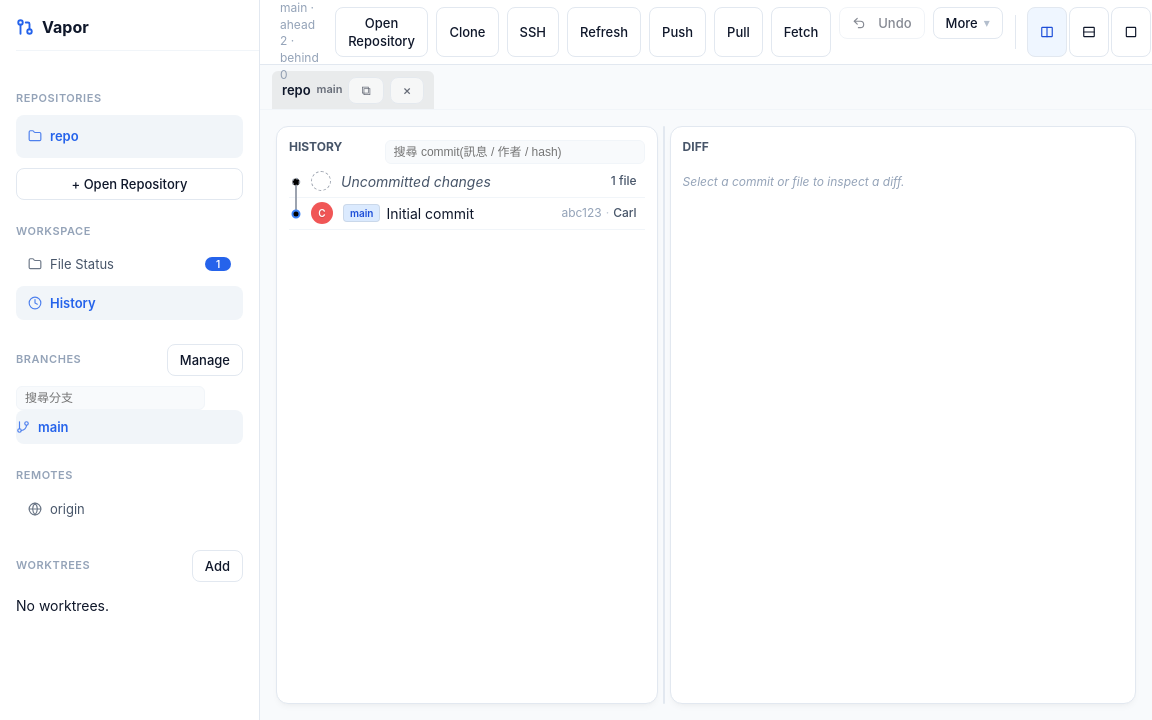
it: App › closes the branches dialog when the active repository changes
This screenshot has width=1152, height=720.
Step 1. Click the button with aria-label "More Git actions" → (968, 23), box [933,7,1003,39]
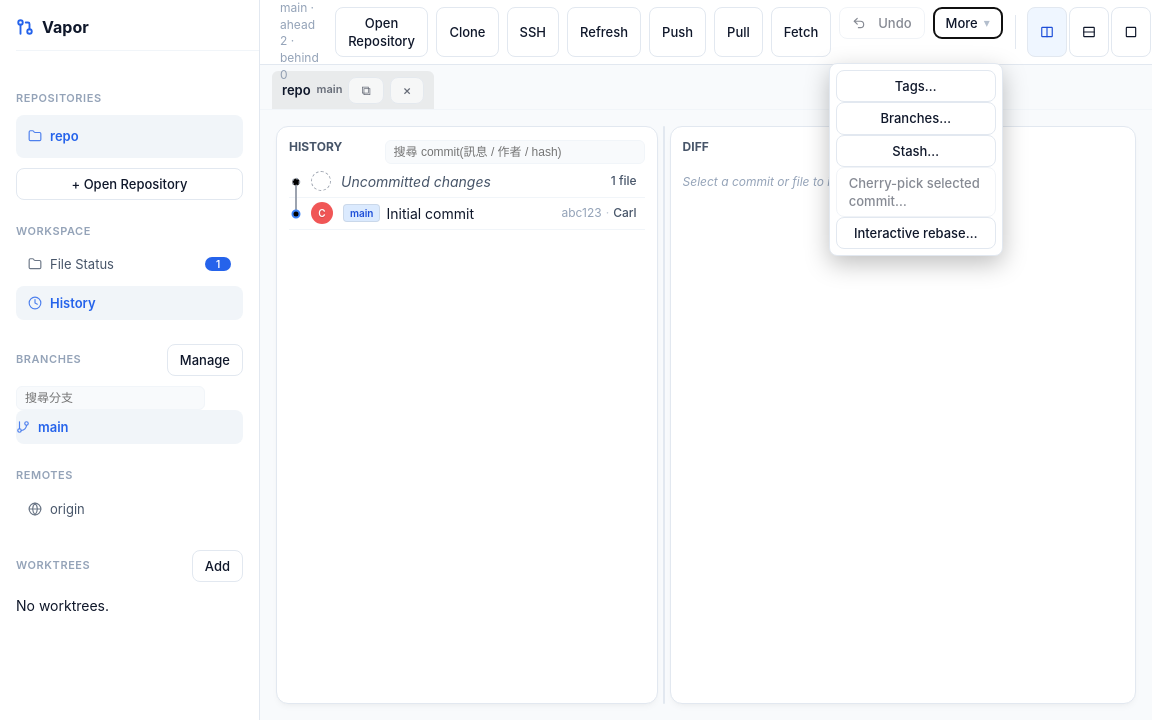
Step 2. Click the menu item "Branches…" → (916, 118), box [836,102,996,135]
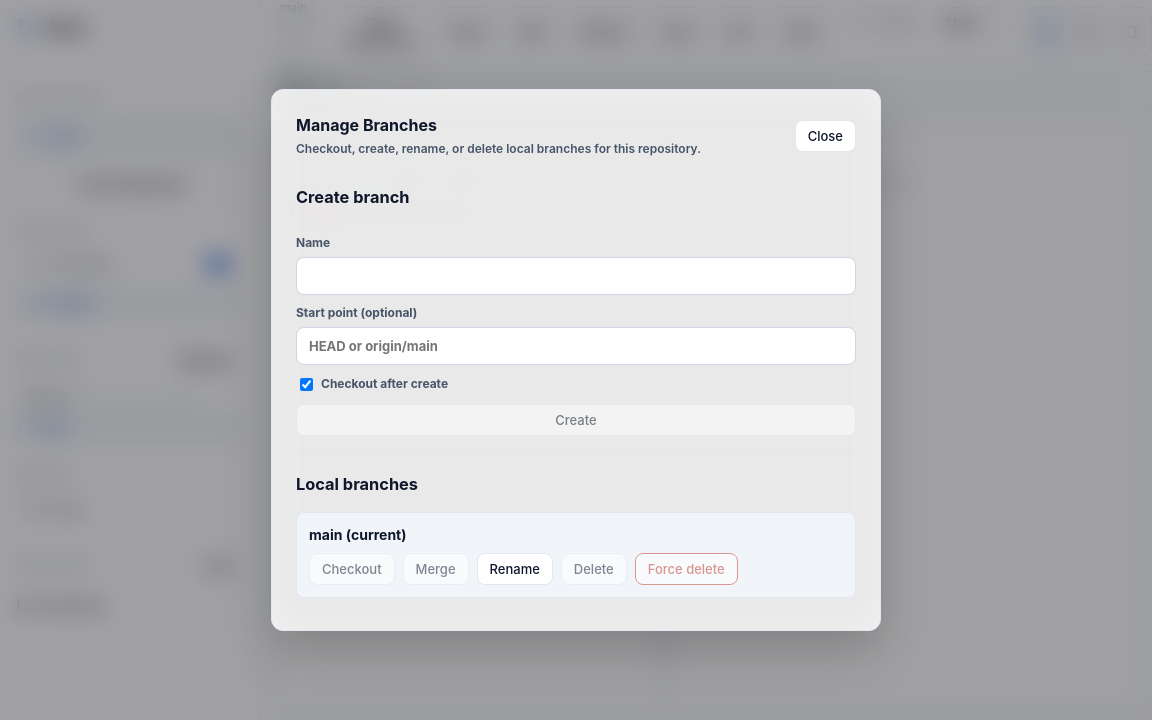
Expected: the dialog "Manage Branches" is shown, [271,89,881,631]
